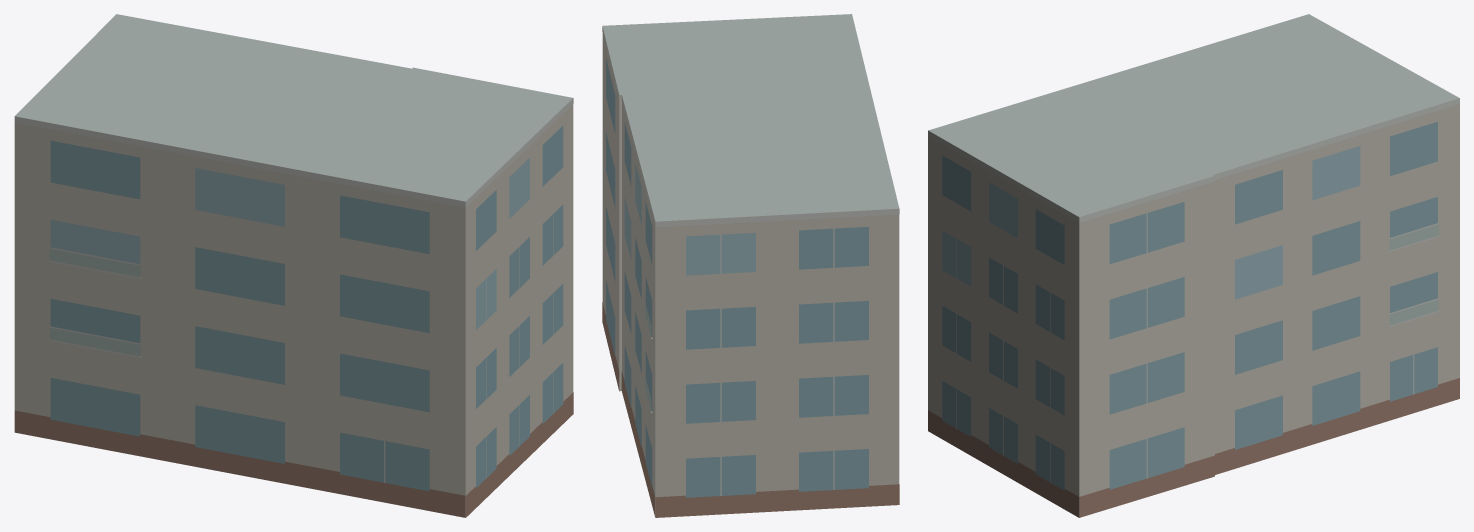
File: survey-upis-32805757.glb
The picture shows the model from 3 angles, left to right: view 1: azimuth 30°, elevation 25°; view 2: azimuth 150°, elevation 25°; view 3: azimuth 270°, elevation 25°; orthographic projection. The views are drawn at different scales.
Visible parts, largest first — view 1: survey-upis-32805757.tmp; view 2: survey-upis-32805757.tmp; view 3: survey-upis-32805757.tmp.
Boxes of the visible parts, left/top/right/bottom form: survey-upis-32805757.tmp: left=14, top=14, right=573, bottom=517; survey-upis-32805757.tmp: left=602, top=14, right=899, bottom=517; survey-upis-32805757.tmp: left=928, top=14, right=1459, bottom=517.
Size of the model in its own units: 18.6 by 12.83 by 20.57.
